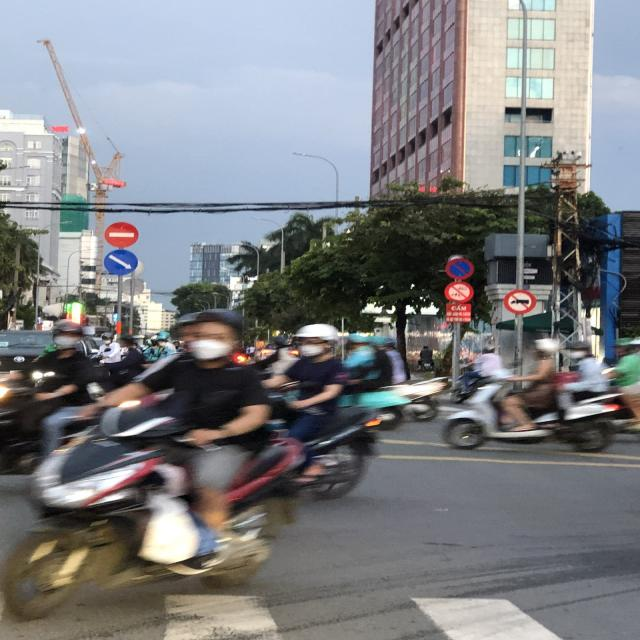Bien bao cam di nguoc chieu: (102, 220, 140, 250)
Bien bao cam do xe: (443, 256, 477, 280)
Bien bao cam xe so-mi ro-mooc: (502, 286, 540, 316)
Bien bao huong phai di vong chuong ngai vat: (102, 248, 141, 278)
